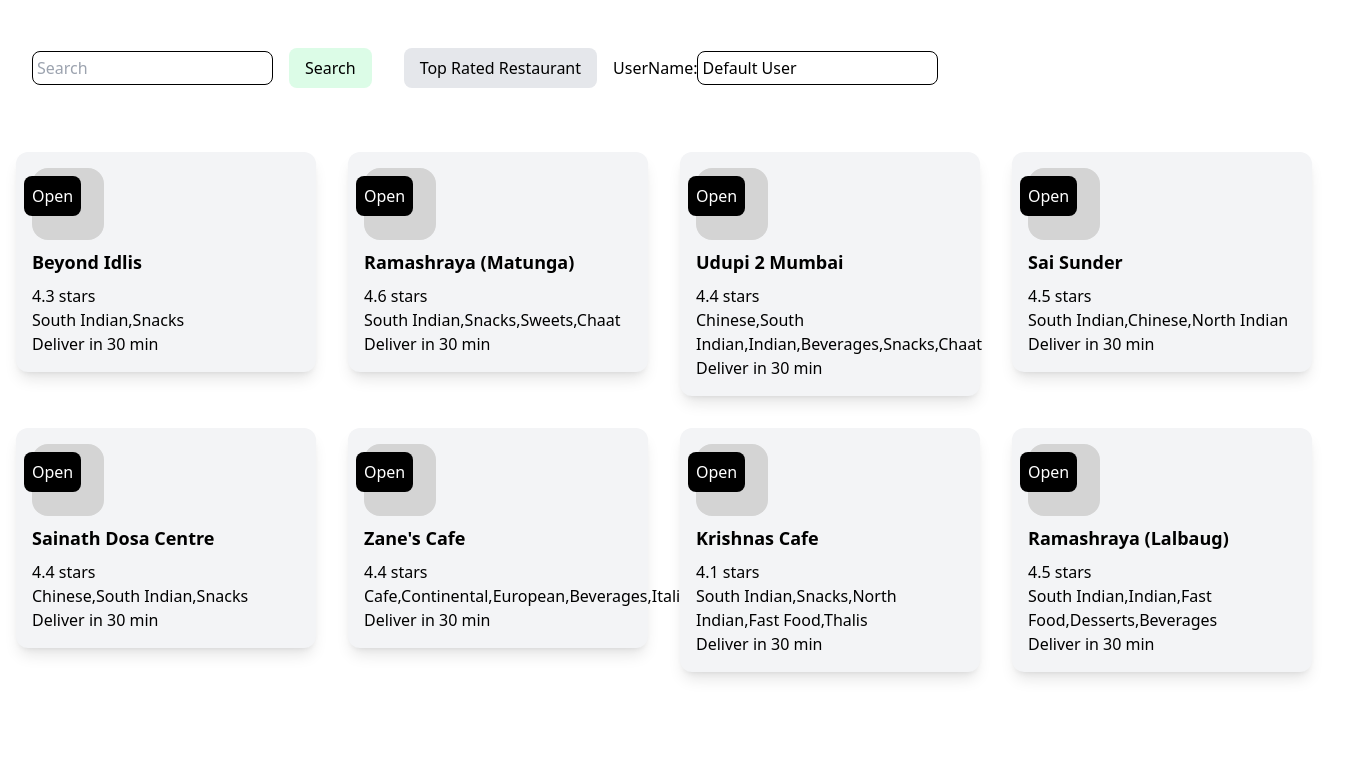
should filter top rated rest card
The width and height of the screenshot is (1366, 768).
Click the button "Top Rated Restaurant". click: coordinates (500, 68)
box: [404,48,597,88]
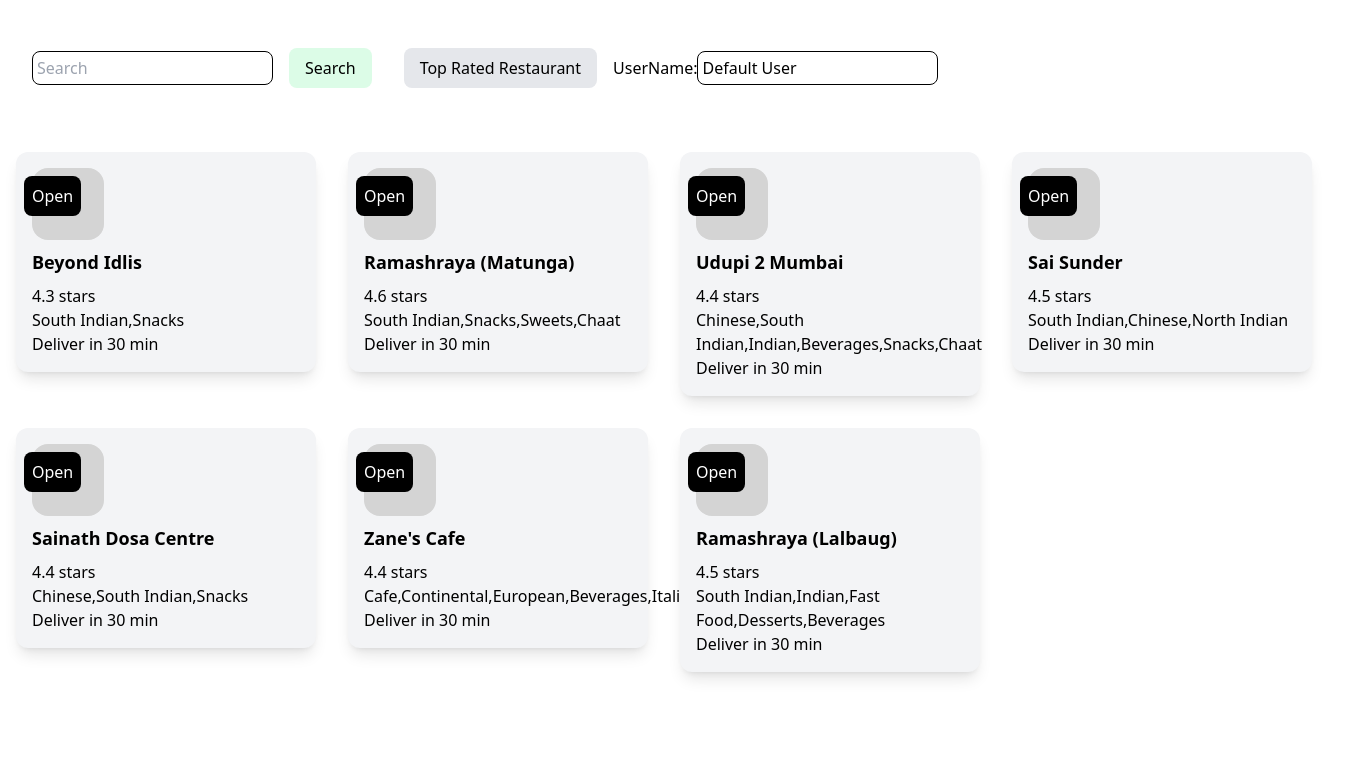
Check: the number of elements with test id "resCard" is 7
